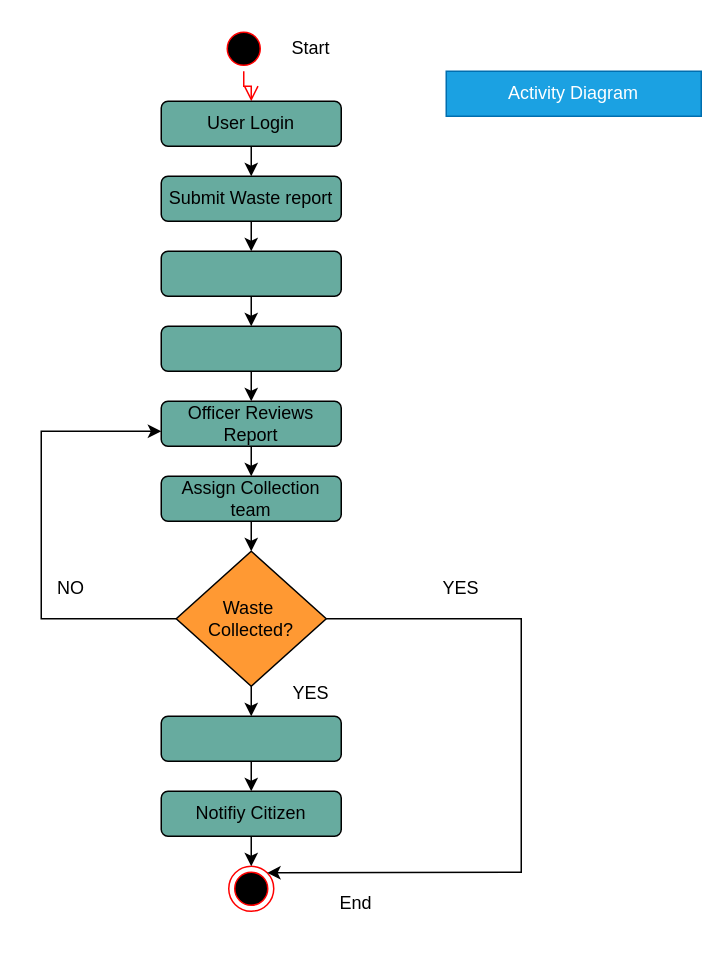
This 728x953 diagram has some shape labels left out. Each missing label, with the centre of its shape:
System Receives Report: the point at 250,348
Update Report Status: the point at 250,738
Upload Photo: the point at 250,273
